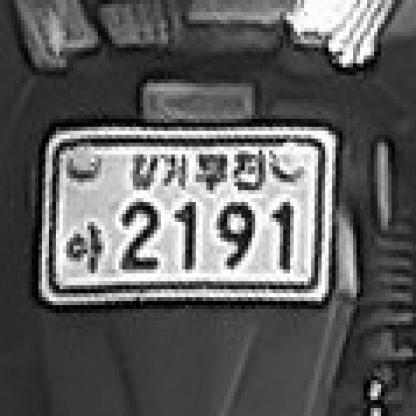bnum: (38, 119, 340, 311)
